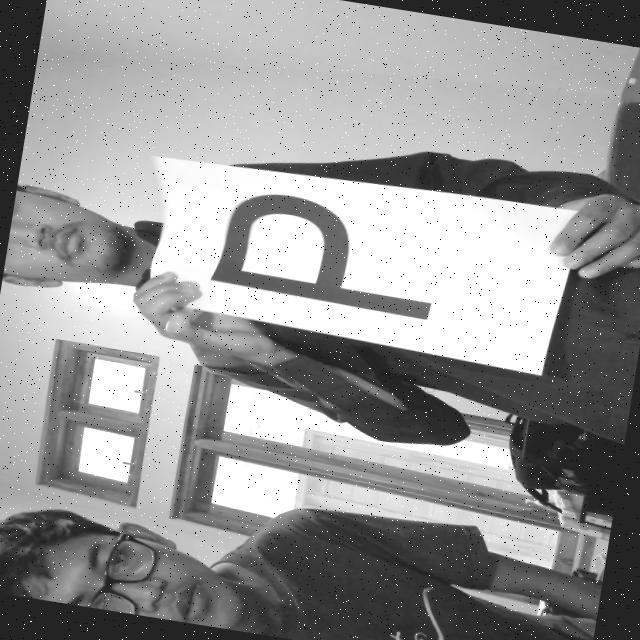p: (194, 180, 468, 332)
